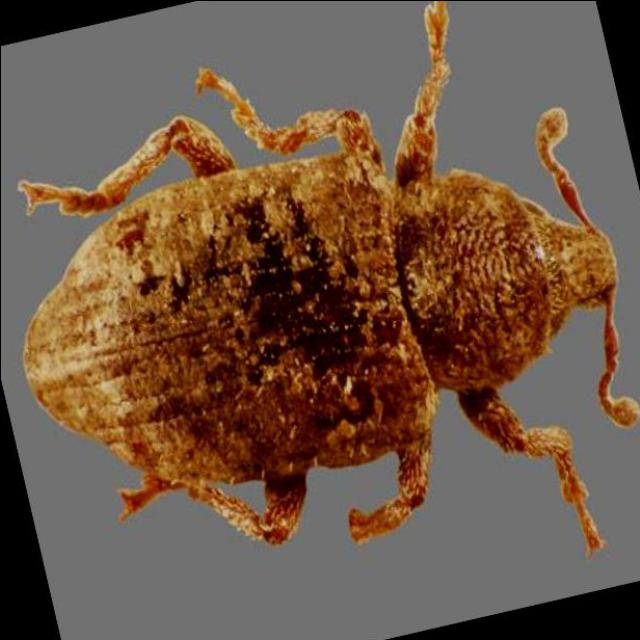ricebug: (21, 0, 639, 551)
